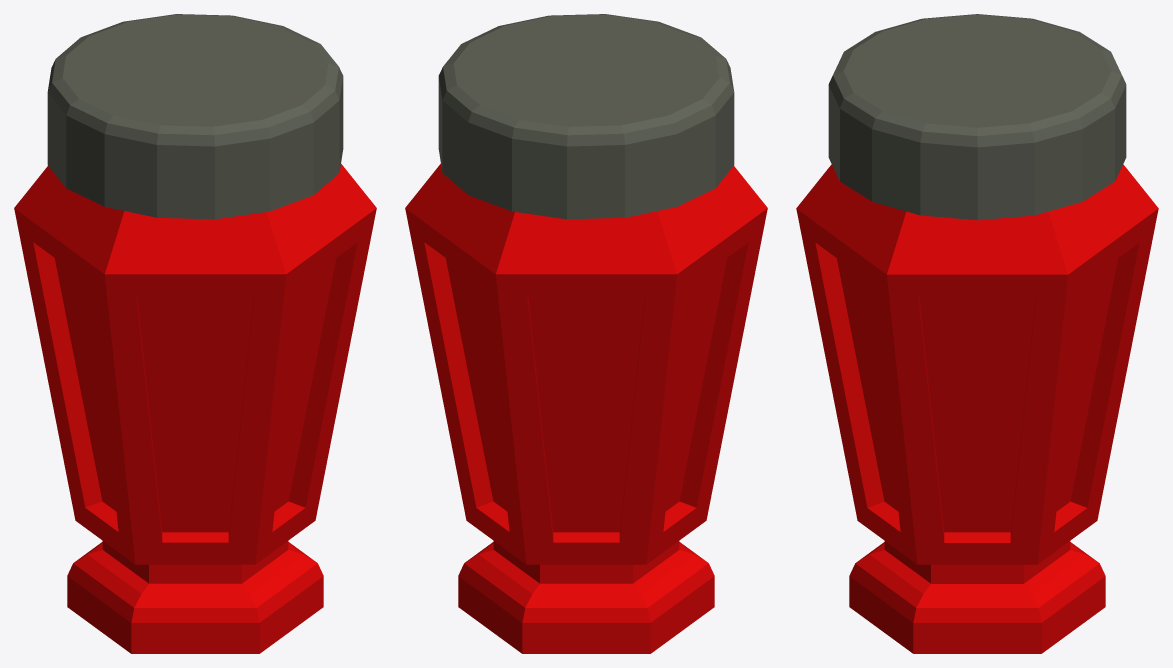
The model's file is lampas.fbx.
3 renders of one model, left to right at view 1: azimuth 30°, elevation 25°; view 2: azimuth 150°, elevation 25°; view 3: azimuth 270°, elevation 25°, orthographic.
Parts seen in each view (by area): view 1: lampas; view 2: lampas; view 3: lampas.
Boxes of the visible parts, <box> form: lampas: <box>14,14,376,653</box>; lampas: <box>405,14,767,653</box>; lampas: <box>796,14,1158,653</box>.
Size of the model in its own units: 9.73 by 18.33 by 11.24.
